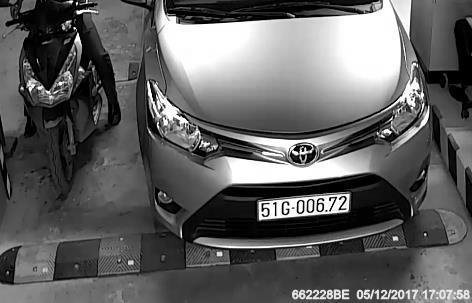License-plate: (252, 181, 359, 226)
